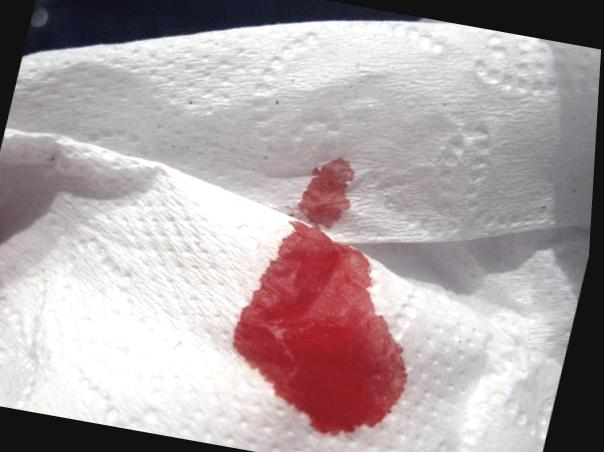Fire: (237, 158, 412, 434)
